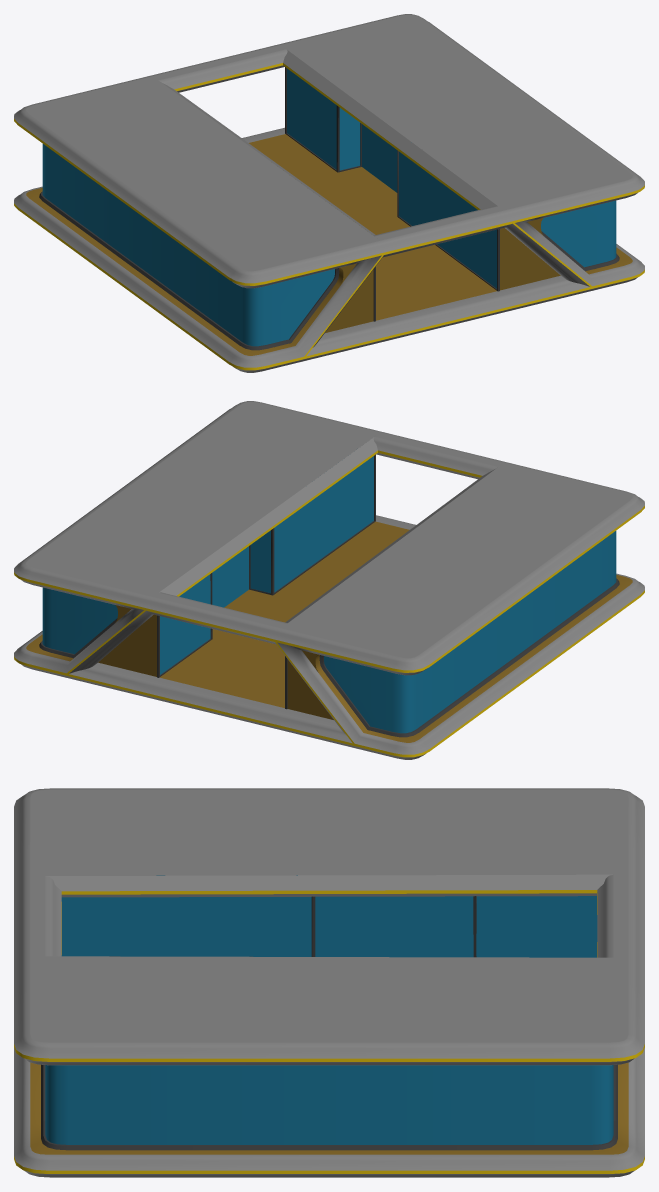
Rendered from SM_MK9_Building_Roof.fbx.
3 renders of one model, top to bottom at view 1: azimuth 30°, elevation 25°; view 2: azimuth 150°, elevation 25°; view 3: azimuth 270°, elevation 25°, orthographic. The views are drawn at different scales.
Visible parts, largest first — view 1: SM_MK9_Building_Roof; view 2: SM_MK9_Building_Roof; view 3: SM_MK9_Building_Roof.
Boxes of the visible parts, x1=… form: SM_MK9_Building_Roof: x1=14, y1=14, x2=644, y2=372; SM_MK9_Building_Roof: x1=14, y1=401, x2=644, y2=759; SM_MK9_Building_Roof: x1=14, y1=788, x2=644, y2=1177.
Size of the model in its own units: 2141 by 500 by 2141.
